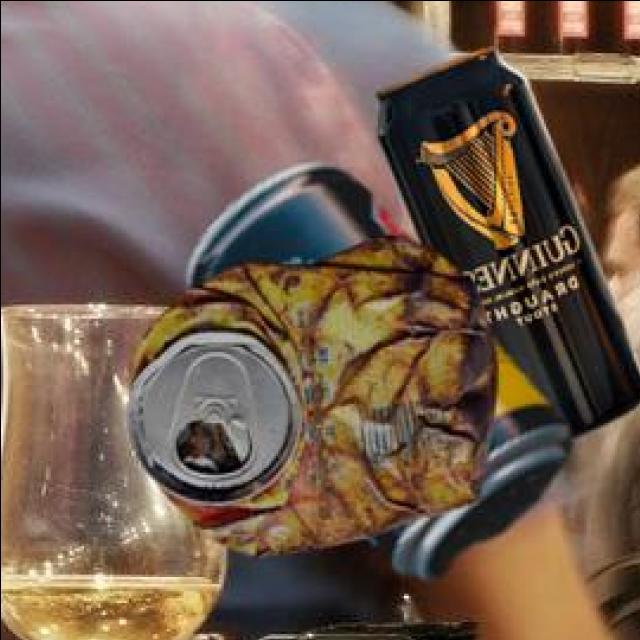logam: (191, 160, 575, 575), (129, 231, 499, 553), (378, 44, 640, 433)
